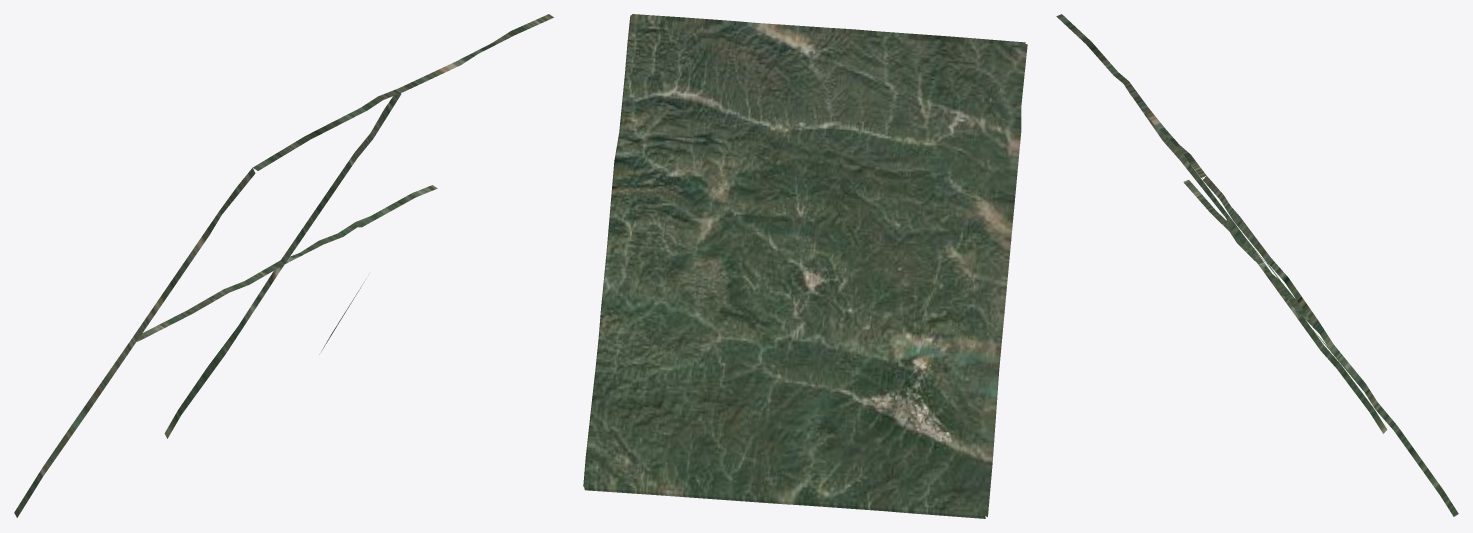
3 views of the same model, side by side, from view 1: azimuth 30°, elevation 25°; view 2: azimuth 150°, elevation 25°; view 3: azimuth 270°, elevation 25° (orthographic). The views are drawn at different scales.
Size of the model in its own units: 154421 by 134020 by 127905.
1 material, 1 textured.
